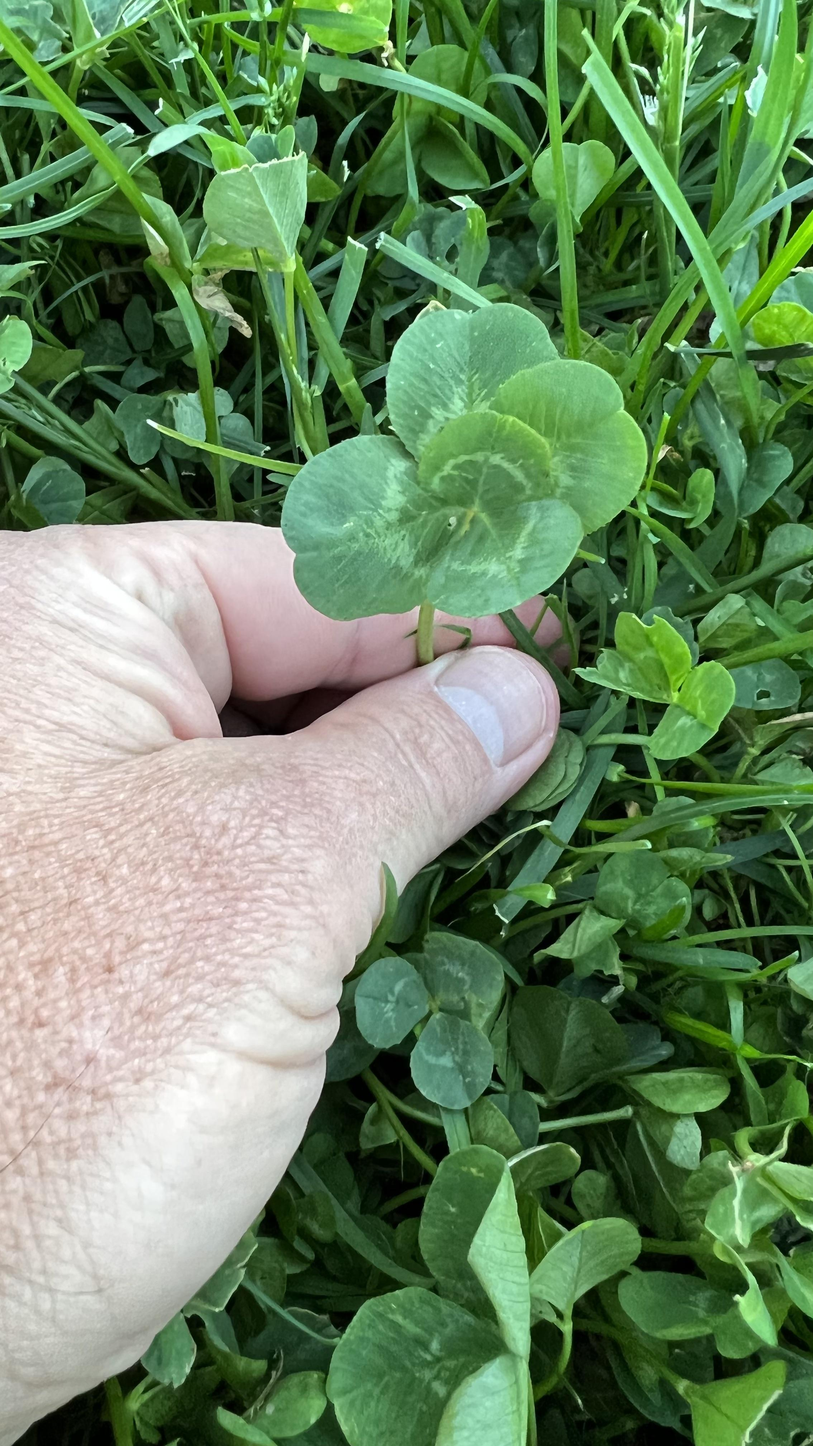5-Leaf-Clovers: (287, 301, 647, 622)
